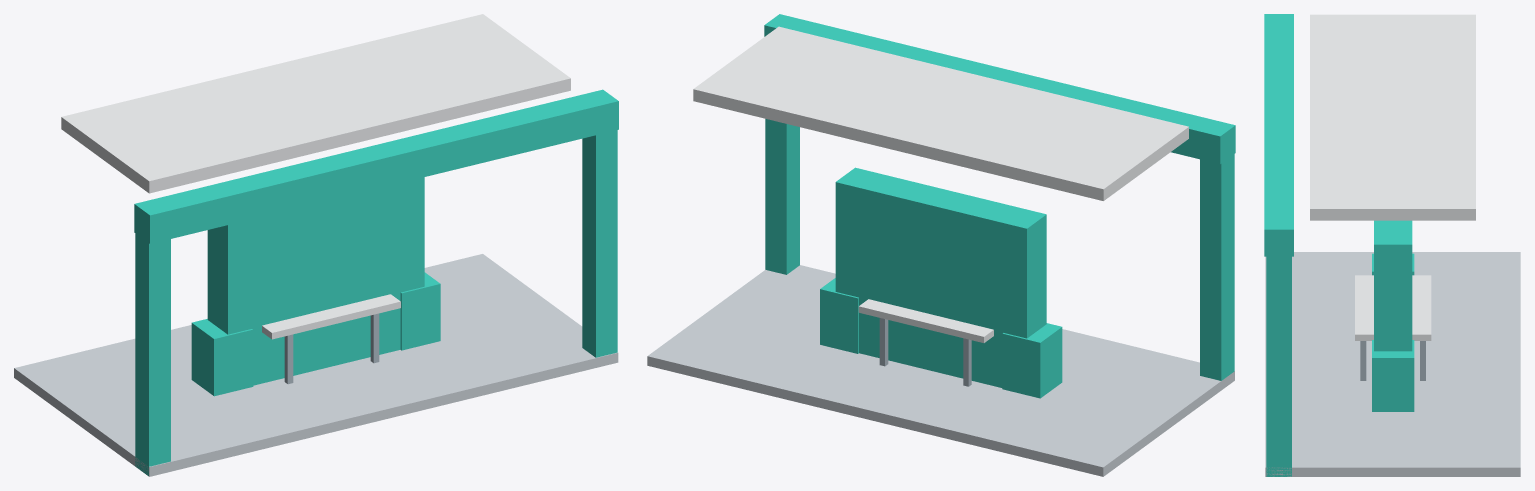
3 renders of one model, left to right at view 1: azimuth 30°, elevation 25°; view 2: azimuth 150°, elevation 25°; view 3: azimuth 270°, elevation 25°, orthographic. The views are drawn at different scales.
Visible parts, largest first — view 1: Exhibition Booth Concept; view 2: Exhibition Booth Concept; view 3: Exhibition Booth Concept.
Part boxes in pixels (bbox=[...]): Exhibition Booth Concept: bbox=[14, 14, 618, 476]; Exhibition Booth Concept: bbox=[647, 14, 1235, 476]; Exhibition Booth Concept: bbox=[1264, 14, 1520, 476].
Bounding box in the file's own units: 6 × 3.34 × 3.01.
